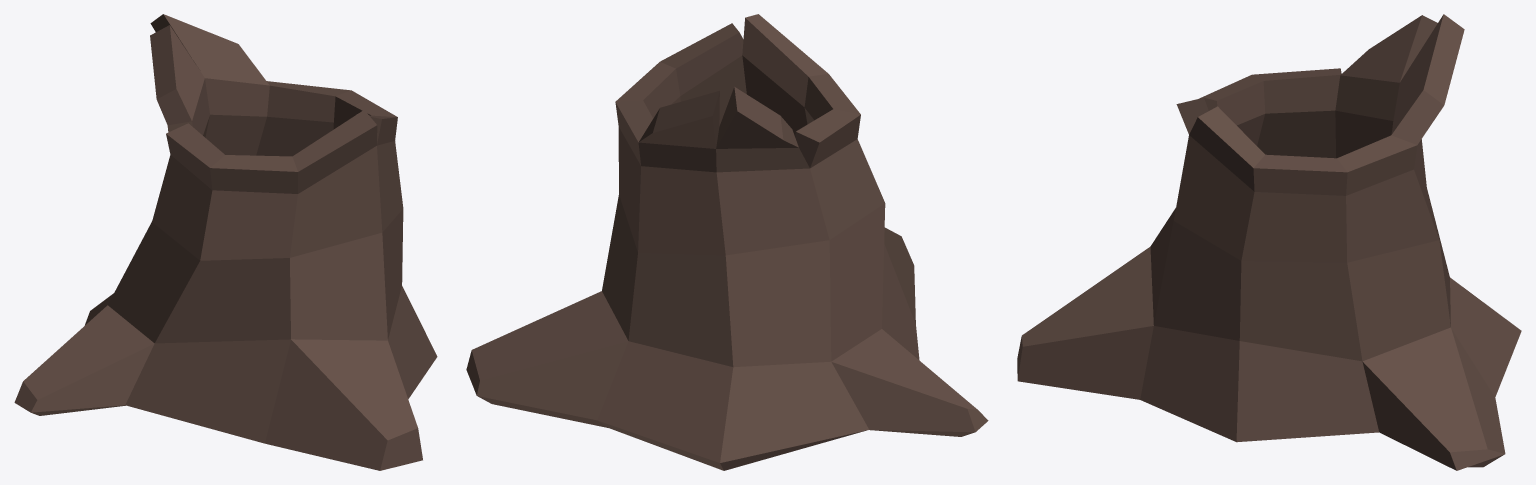
Rendered from Tree Stomp.fbx.
The picture shows the model from 3 angles, left to right: view 1: azimuth 30°, elevation 25°; view 2: azimuth 150°, elevation 25°; view 3: azimuth 270°, elevation 25°; orthographic projection. The views are drawn at different scales.
Visible parts, largest first — view 1: Stomp2; view 2: Stomp2; view 3: Stomp2.
Boxes of the visible parts, <box> form: Stomp2: <box>14,14,437,470</box>; Stomp2: <box>466,14,988,470</box>; Stomp2: <box>1017,14,1521,470</box>.
Bounding box in the file's own units: 0.987 × 0.7298 × 0.9461.
